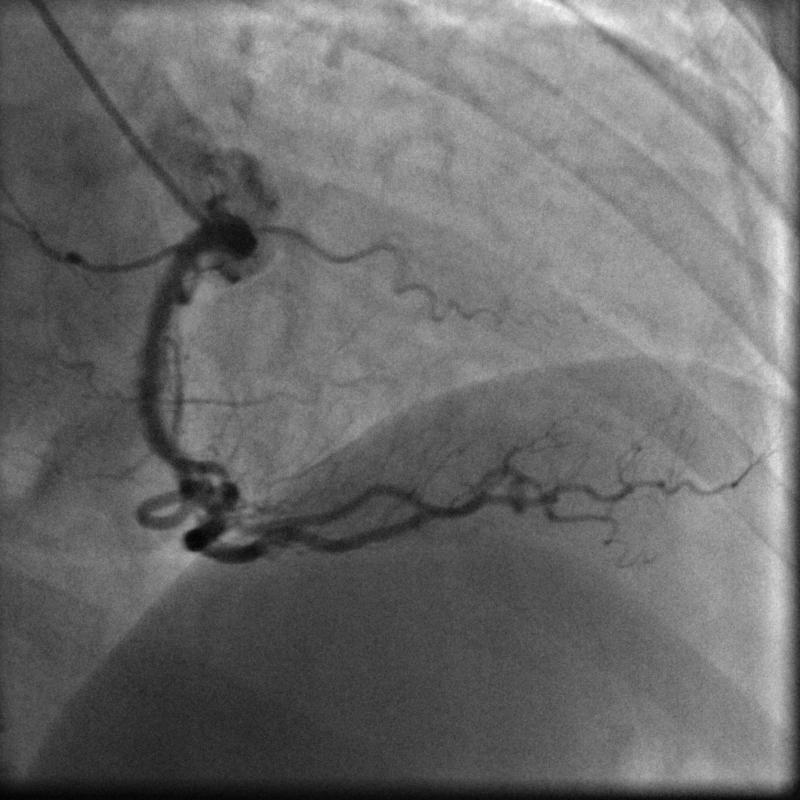Stenosis: (152, 446, 212, 485)
